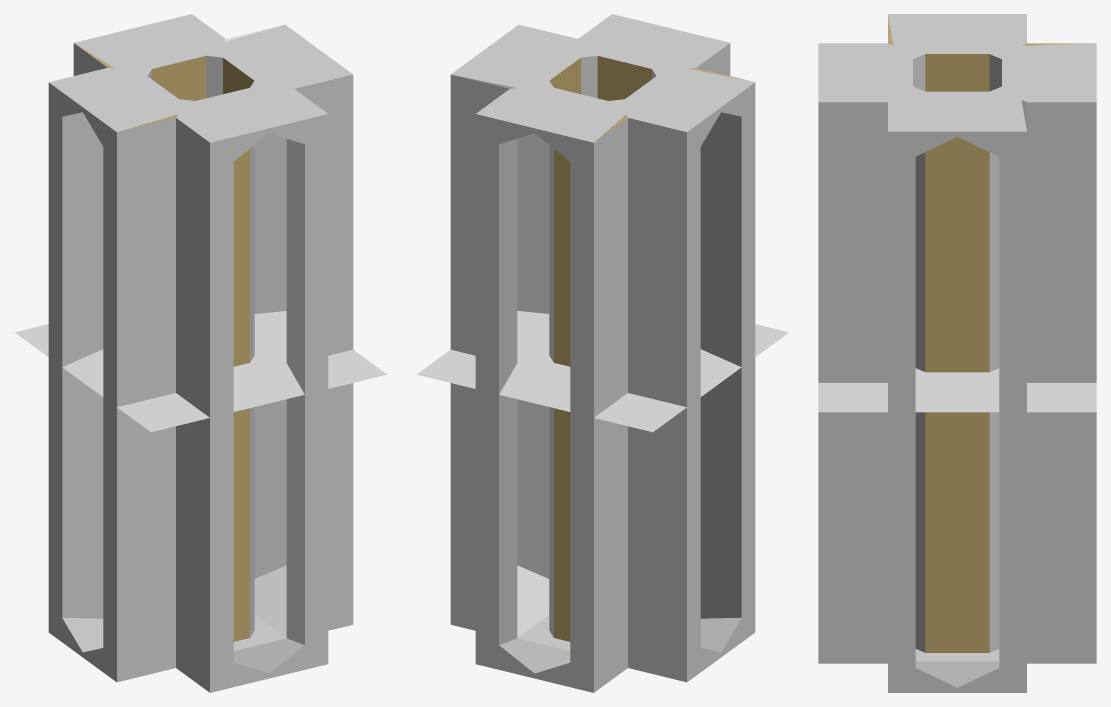
Rendered from Measurement_Tool.fbx.
3 views of the same model, side by side, from view 1: azimuth 30°, elevation 25°; view 2: azimuth 150°, elevation 25°; view 3: azimuth 270°, elevation 25° (orthographic). The views are drawn at different scales.
Parts seen in each view (by area): view 1: Plane, Plane.001; view 2: Plane, Plane.001; view 3: Plane, Plane.001.
Boxes of the visible parts, x1,y1,x2,y2 form: Plane: (48,14,353,692); Plane.001: (15,311,386,432); Plane: (450,14,755,692); Plane.001: (417,311,788,432); Plane: (818,14,1096,692); Plane.001: (818,368,1096,412).
Bounding box in the file's own units: 91.44 × 203 × 91.44.
